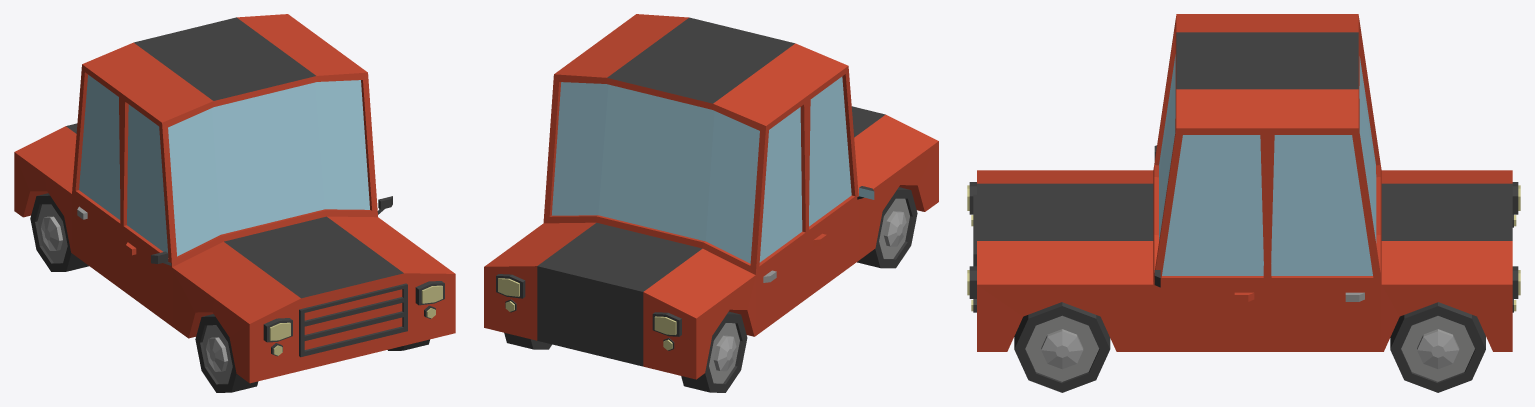
The model's file is realcarbuild 1.fbx.
3 renders of one model, left to right at view 1: azimuth 30°, elevation 25°; view 2: azimuth 150°, elevation 25°; view 3: azimuth 270°, elevation 25°, orthographic. The views are drawn at different scales.
Parts seen in each view (by area): view 1: Cube; view 2: Cube; view 3: Cube.
Part boxes in pixels (box(x1,y1,x2,y2)): Cube: box(14, 14, 455, 392); Cube: box(484, 14, 938, 392); Cube: box(967, 14, 1520, 392).
Bounding box in the file's own units: 349 × 336 × 608.
